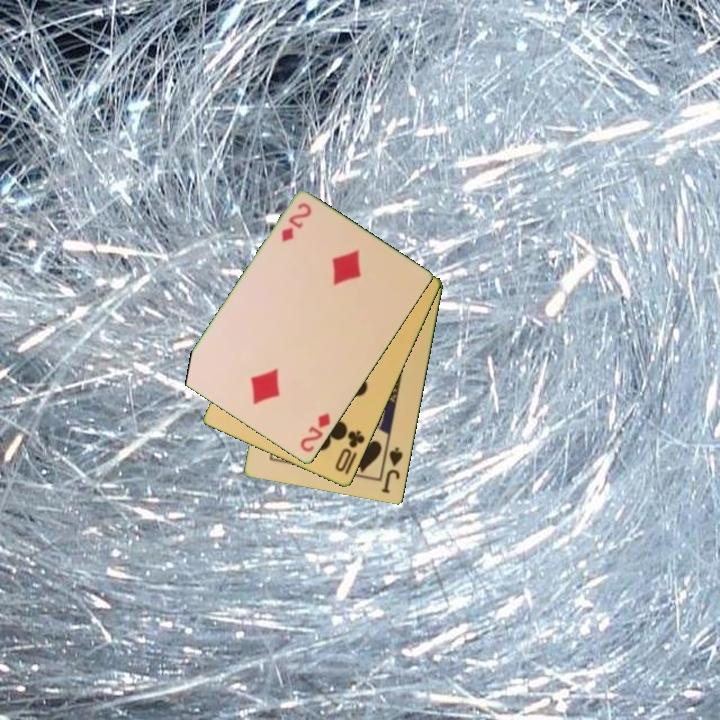10c: (332, 427, 368, 475)
2d: (297, 410, 334, 456), (278, 199, 315, 245)
Js: (378, 444, 406, 496)
